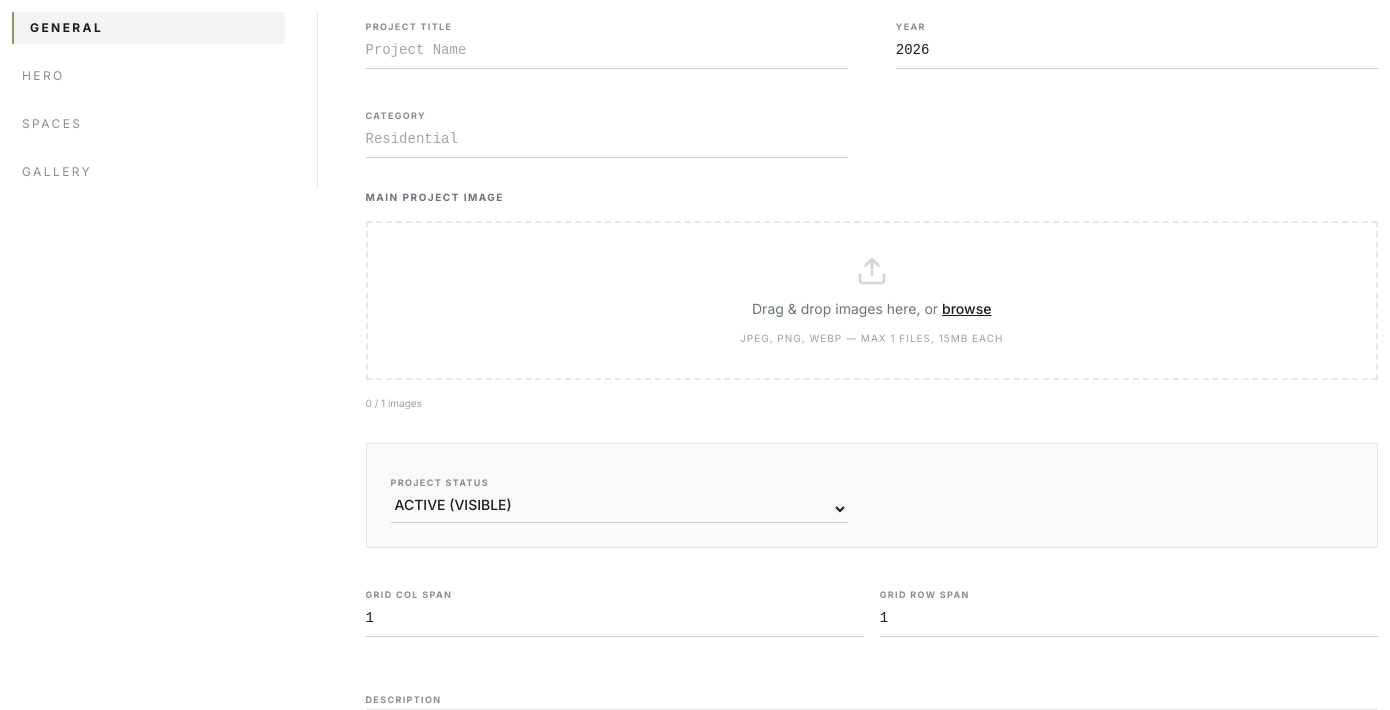
Scenario: ProjectForm › switches to spaces tab and shows Add Space button
The image size is (1390, 710).
What coordinates should you click on to do the following:
click the button "spaces"
I would click on:
 (52, 124)
Its box is [12,108,284,140].
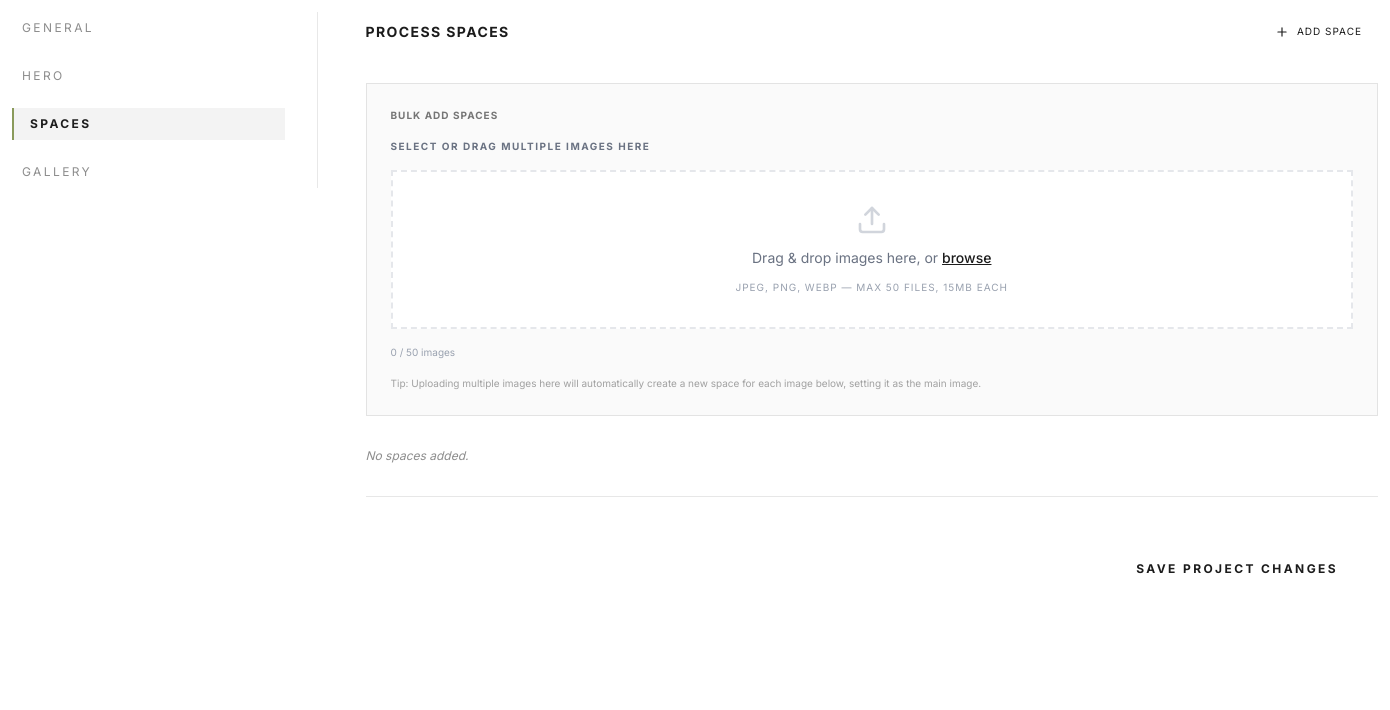
Expected: the button "Add Space" is shown, [1259,12,1378,51]
